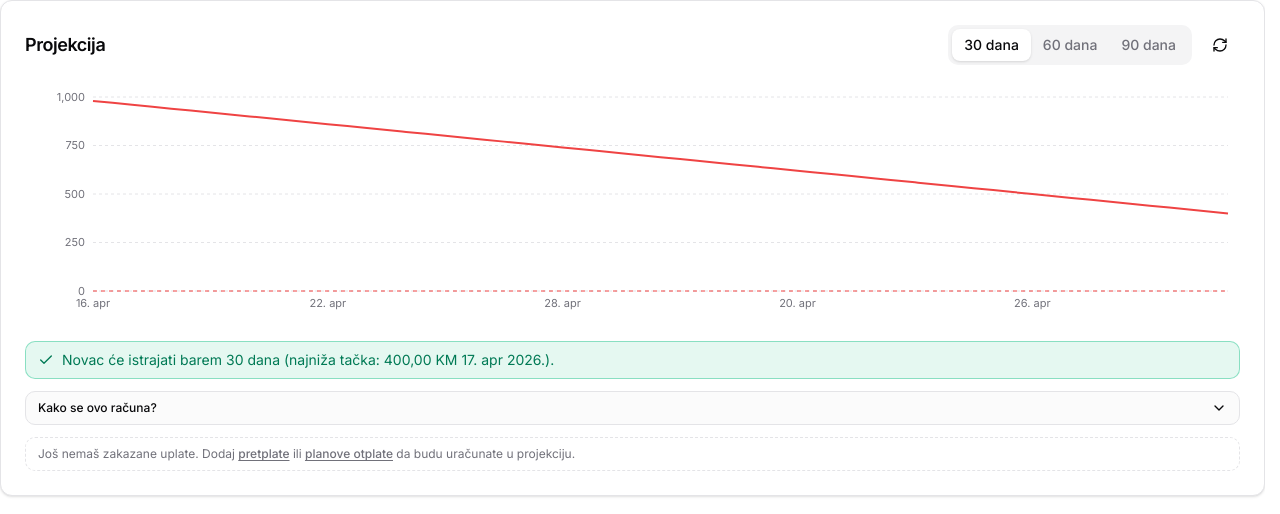
it: ForecastWidget › switches the visible window when a different tab is clicked (recomputes runway)
The width and height of the screenshot is (1280, 514).
Expected: the text "Negativan saldo očekivan" is not shown
Expected: the text "Novac će istrajati barem 30 dana" is shown, [62,350,554,370]
Note: Switch to 60.
Step 1. Click the tab "60 dana" → (1070, 45), box [1031,29,1109,61]
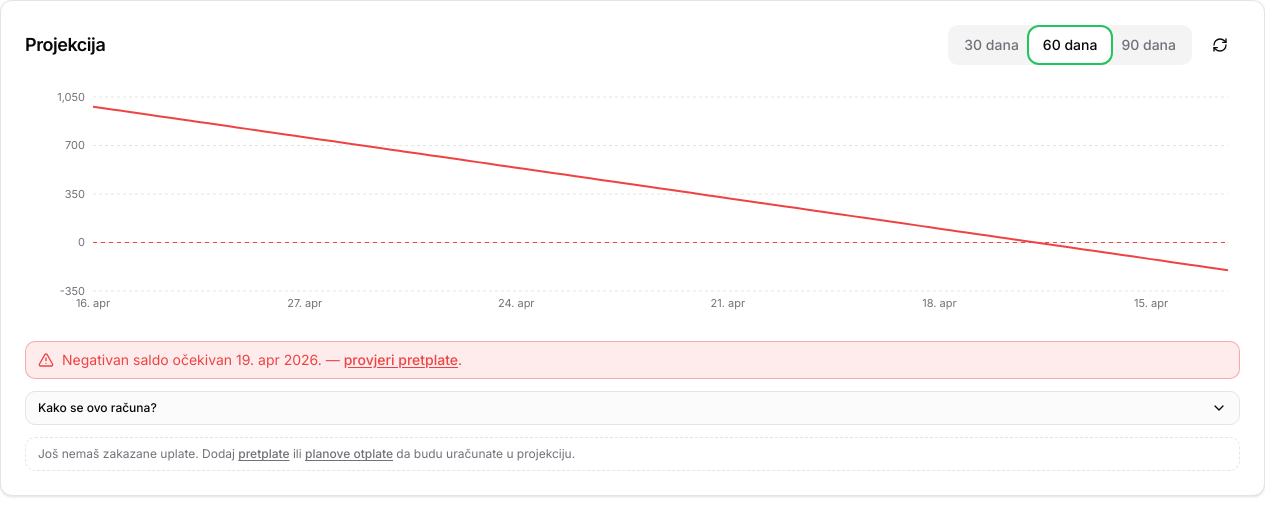
Now the text "Negativan saldo očekivan" is shown, box [62,351,236,368]
